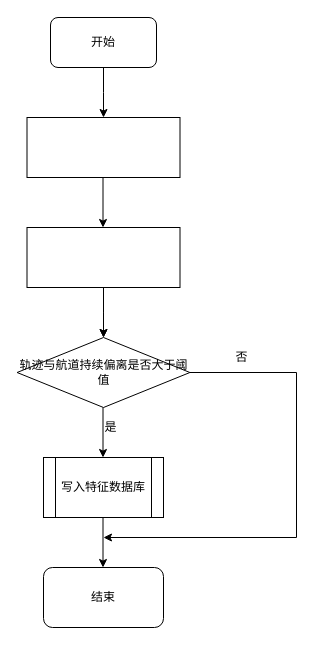
This 323x645 diagram has some shape labels left out. Here are the shapes that lost their labels. From the top down, the box of each, then its label:
(26, 116, 180, 178): 输入船舶待测轨迹和航道数据
(26, 226, 180, 288): 获取与待测轨迹相似度最高的航道
